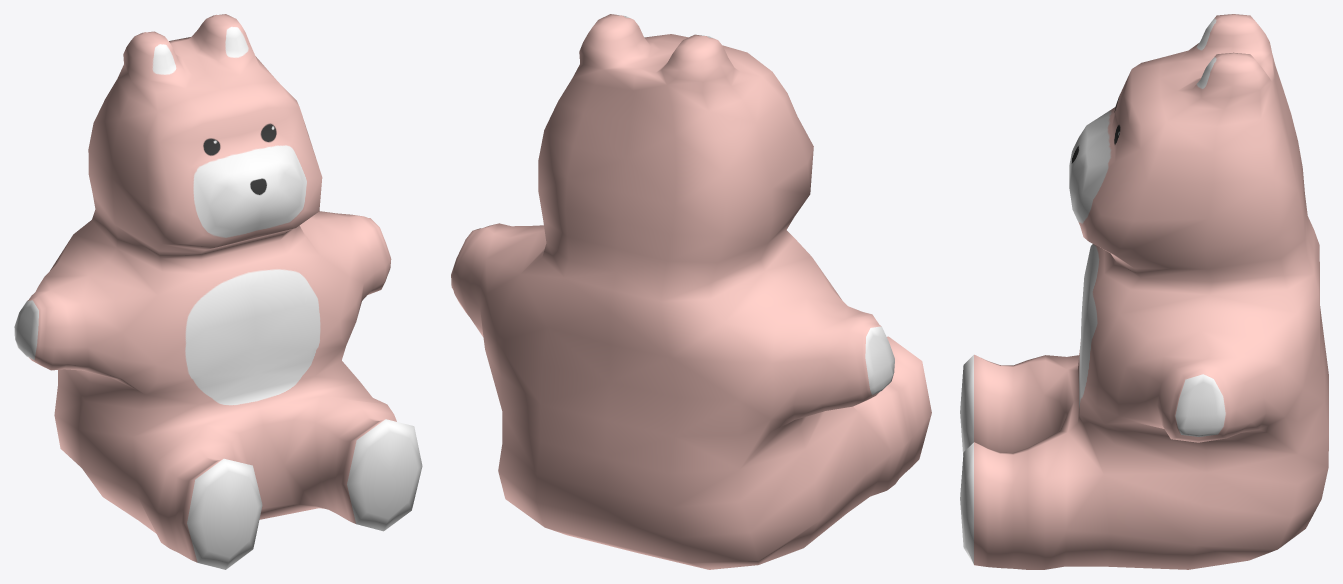
The model's file is Bear.FBX.
3 renders of one model, left to right at view 1: azimuth 30°, elevation 25°; view 2: azimuth 150°, elevation 25°; view 3: azimuth 270°, elevation 25°, orthographic. The views are drawn at different scales.
Parts seen in each view (by area): view 1: Box001; view 2: Box001; view 3: Box001.
Boxes of the visible parts, box(x1,y1,x2,y2) form: Box001: box(14, 14, 422, 569); Box001: box(451, 14, 931, 569); Box001: box(960, 14, 1328, 569).
Bounding box in the file's own units: 21.83 × 25.61 × 17.55.
1 material, 1 textured.
